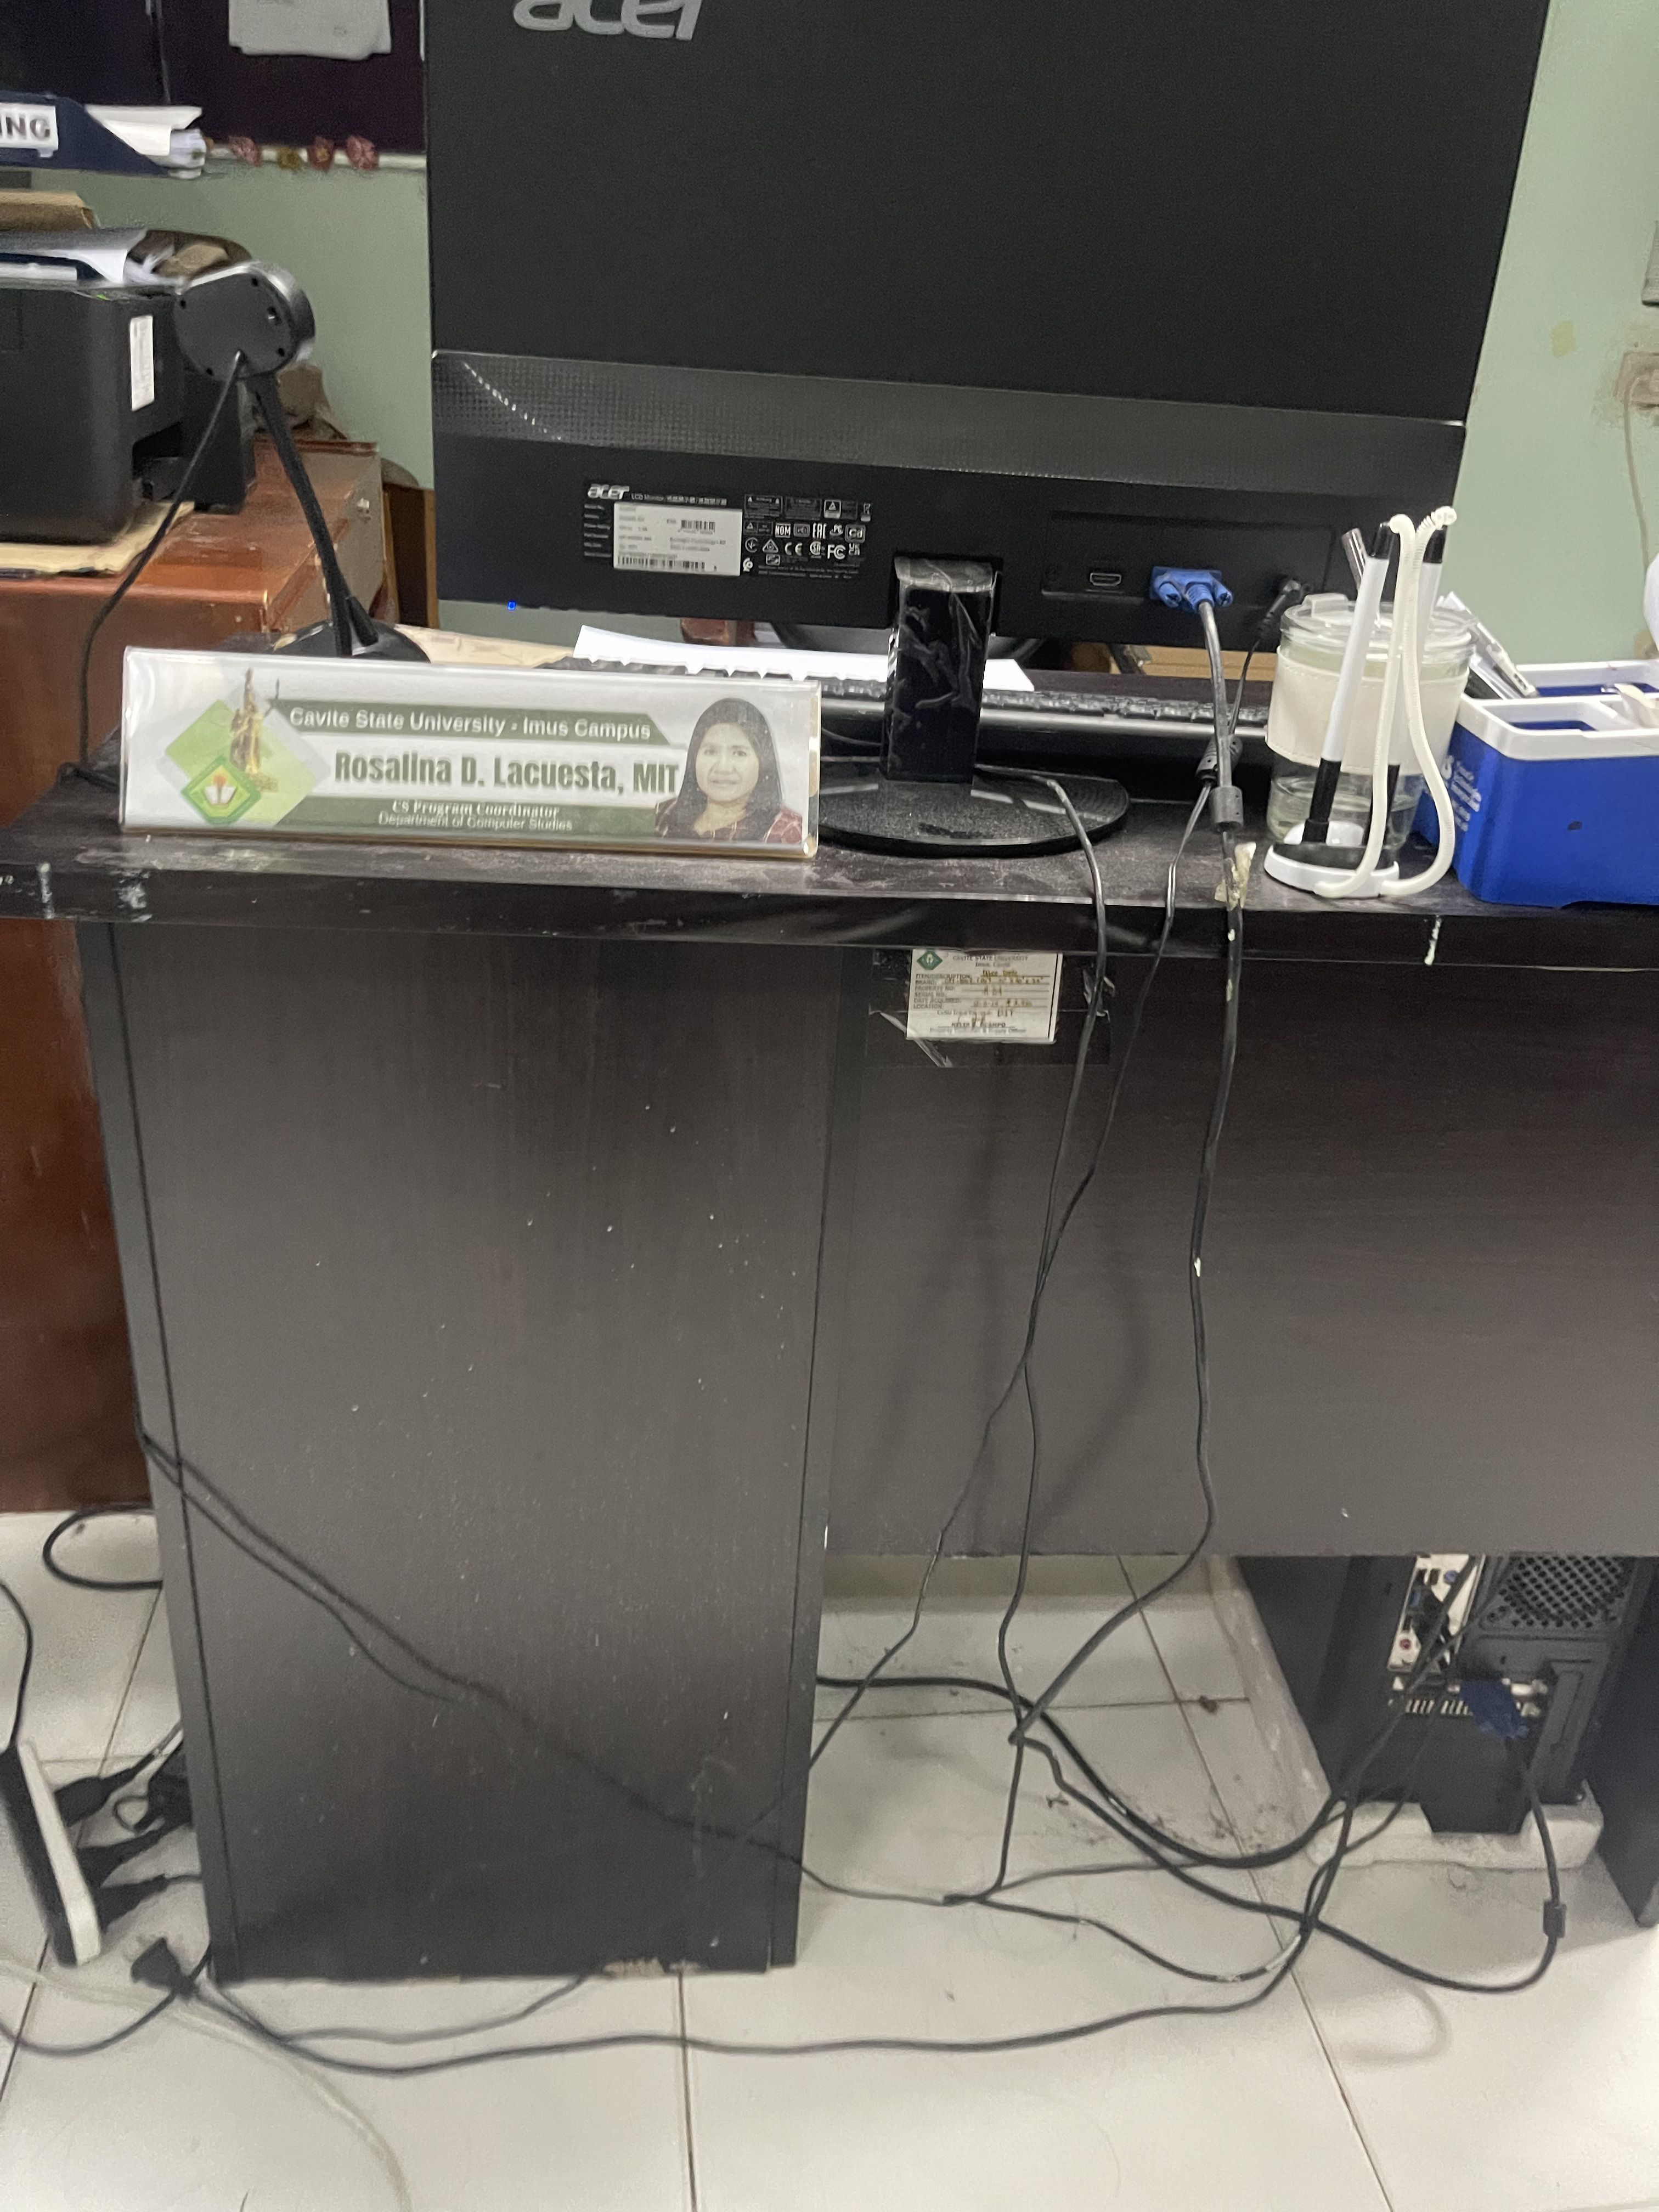table1: (3, 744, 1659, 2031)
